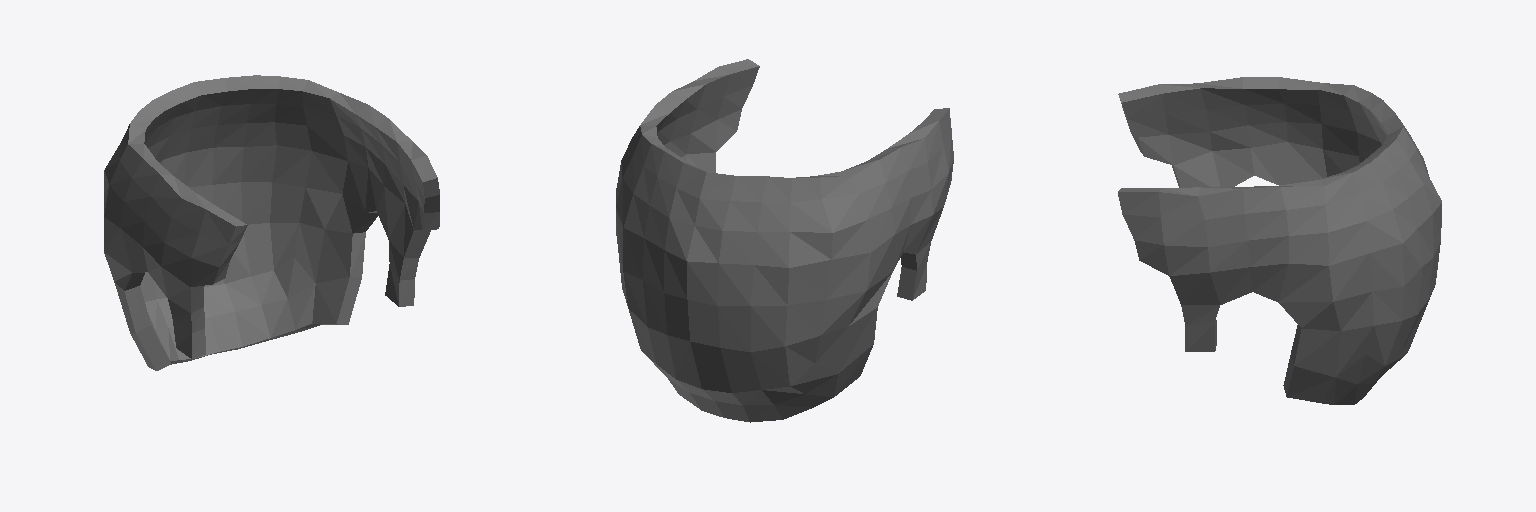
Rendered from LowPoly_Aristocrata_Cabelo.obj.
3 views of the same model, side by side, from view 1: azimuth 30°, elevation 25°; view 2: azimuth 150°, elevation 25°; view 3: azimuth 270°, elevation 25° (orthographic).
Parts seen in each view (by area): view 1: LowPoly_Aristocrata_Cabelo; view 2: LowPoly_Aristocrata_Cabelo; view 3: LowPoly_Aristocrata_Cabelo.
Part boxes in pixels (bbox=[...]): LowPoly_Aristocrata_Cabelo: bbox=[104, 75, 439, 370]; LowPoly_Aristocrata_Cabelo: bbox=[616, 59, 953, 422]; LowPoly_Aristocrata_Cabelo: bbox=[1118, 77, 1441, 404].
Size of the model in its own units: 17.39 by 16.48 by 18.63.